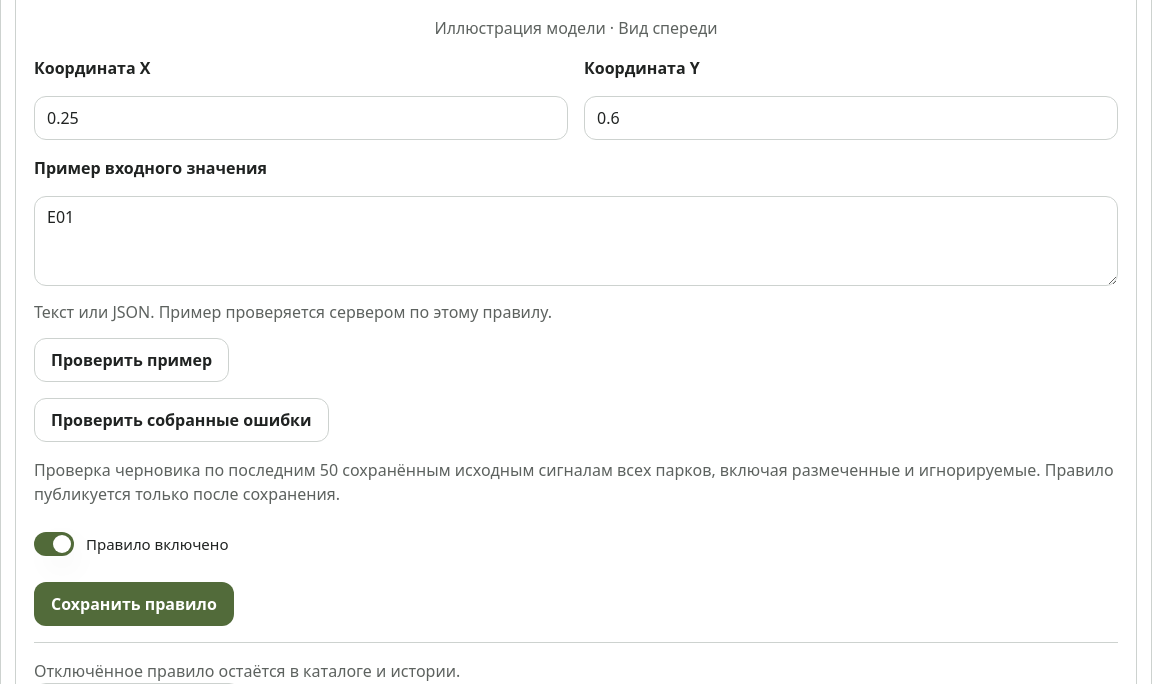
Test: shows the backend preview unsupported without exposing validation input
This screenshot has width=1152, height=684.
(page scrolled)
Click the button "Проверить пример".
click(132, 360)  # box x1=34 y1=338 x2=229 y2=382
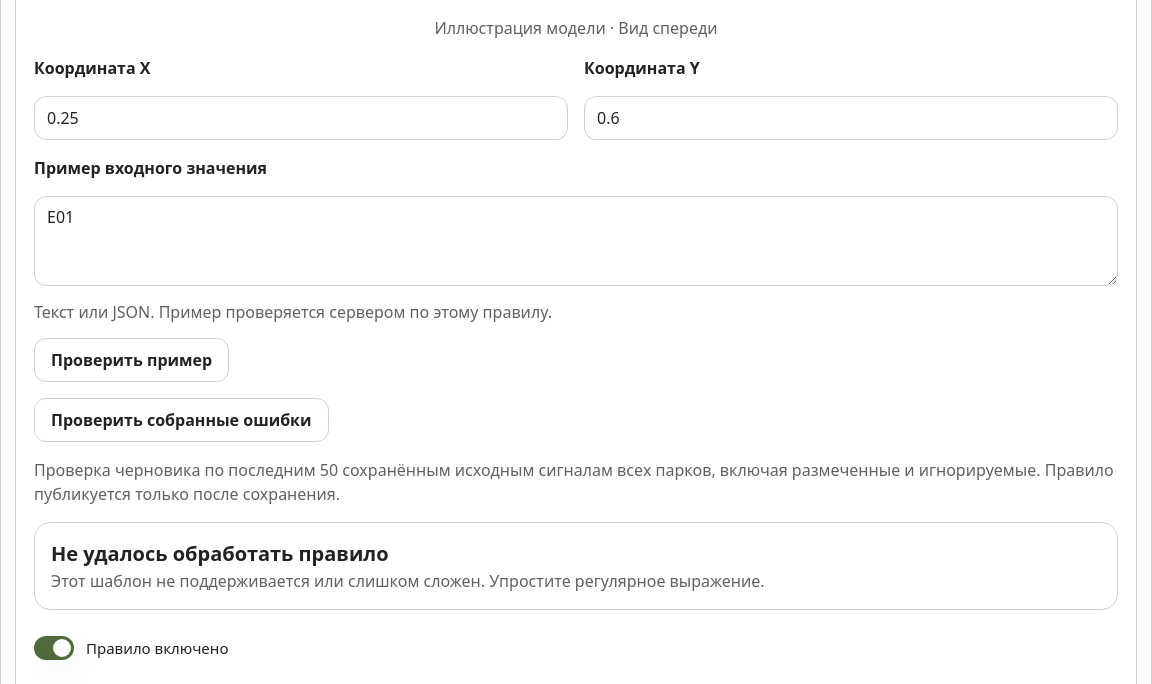
Now the text "не поддерживается" is shown, box x1=51 y1=570 x2=764 y2=592
